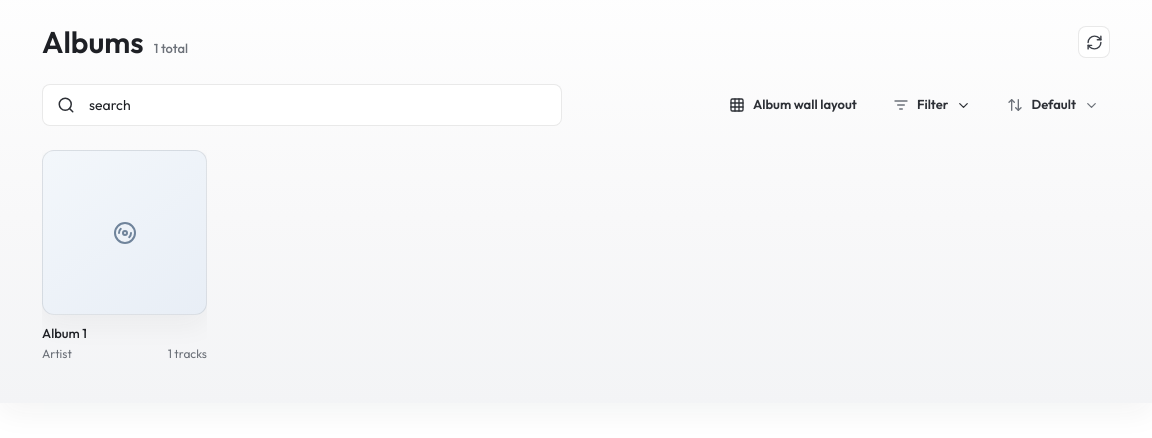
Scenario: AlbumsPage › opens an album-specific context menu without opening the detail view
The image size is (1152, 438).
Right-click the text "Album 1" at x=64, y=333, box 42,325 -> 87,341
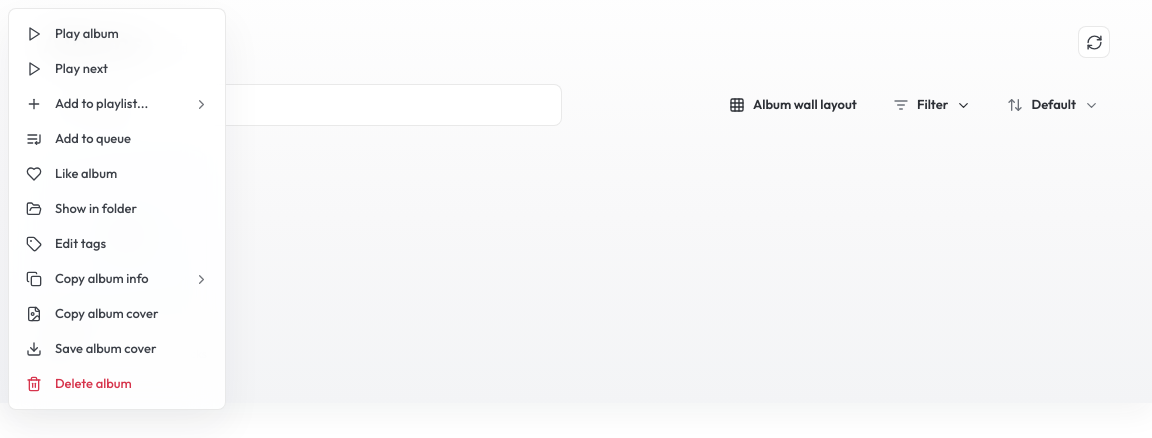
Expected: the menu item "Edit tags" is shown, 17,227 -> 217,261
Expected: the menu item "Delete album" is shown, 17,367 -> 217,401
Expected: the menu item "Play next" is shown, 17,52 -> 217,86
